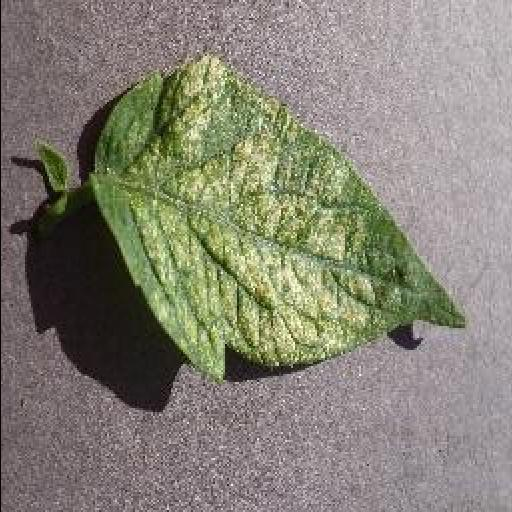disease_tomato: (90, 58, 470, 387)
